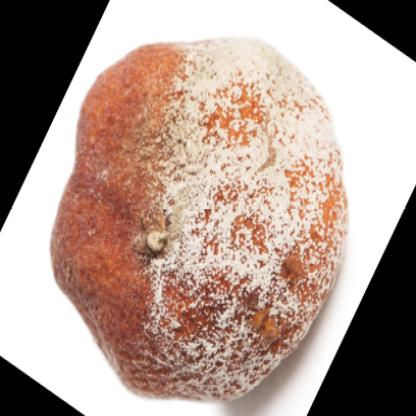rotten: (50, 39, 347, 399)
